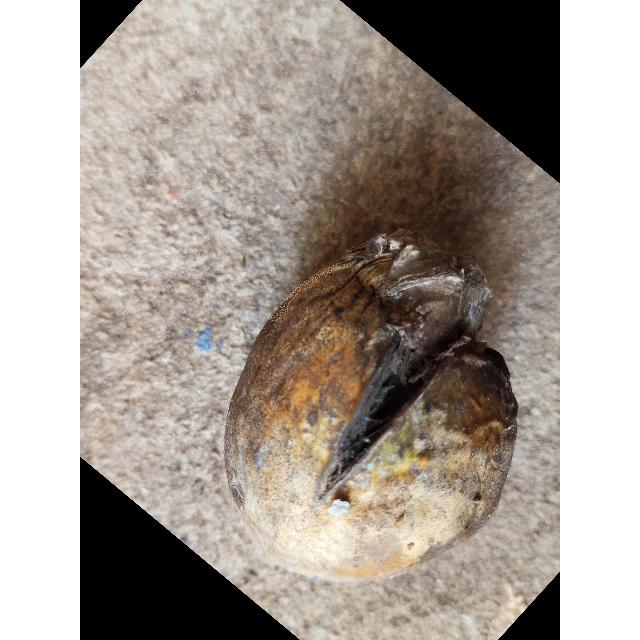damaged: (226, 230, 520, 597)
